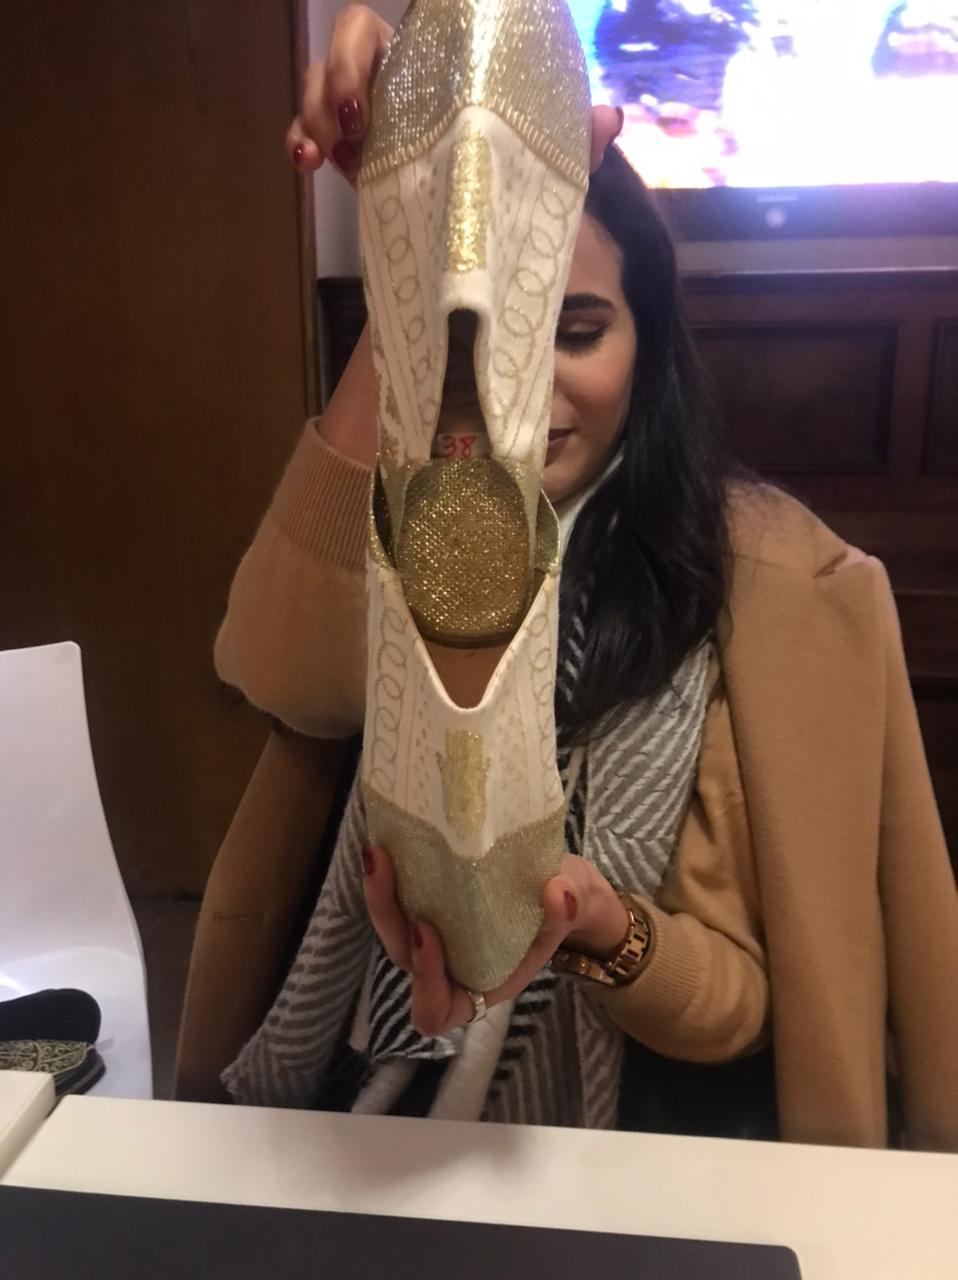balgha: (333, 7, 601, 1018)
